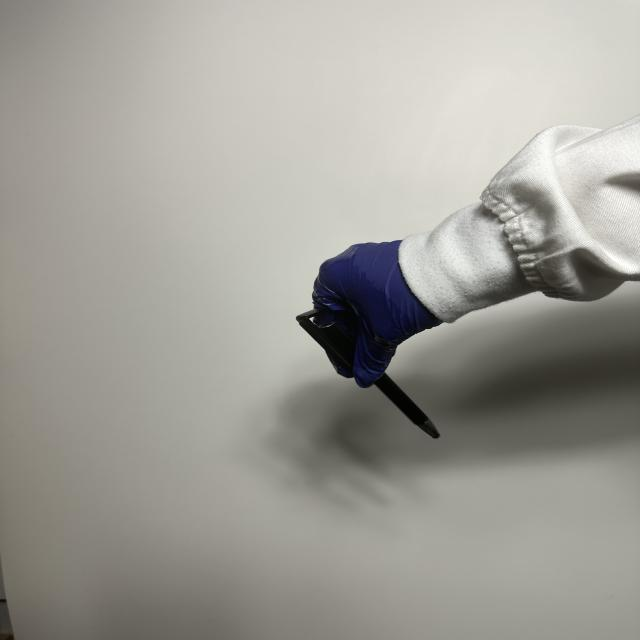gloves_contaminated: (312, 240, 441, 387)
